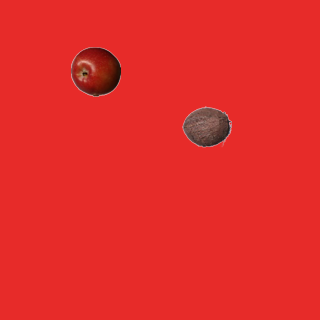Apple Braeburn: (70, 46, 120, 96)
Cocos: (181, 101, 231, 151)
